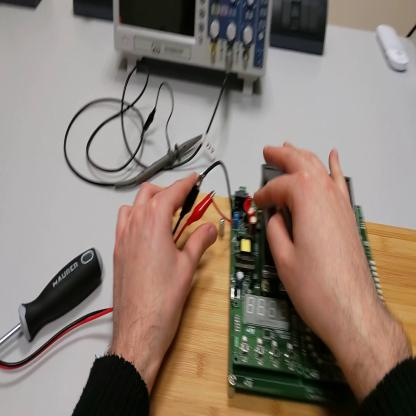hand: (255, 142, 379, 343), (113, 172, 218, 366)
low voltage board: (204, 150, 385, 406)
oscilloscope: (115, 2, 273, 97)
oscilloscope probe tip: (116, 132, 204, 191)
screwdriver-: (1, 251, 103, 348)
socket: (74, 1, 114, 25), (2, 1, 42, 13)
working area: (149, 193, 416, 415)
